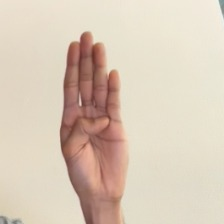B: (48, 15, 149, 213)
